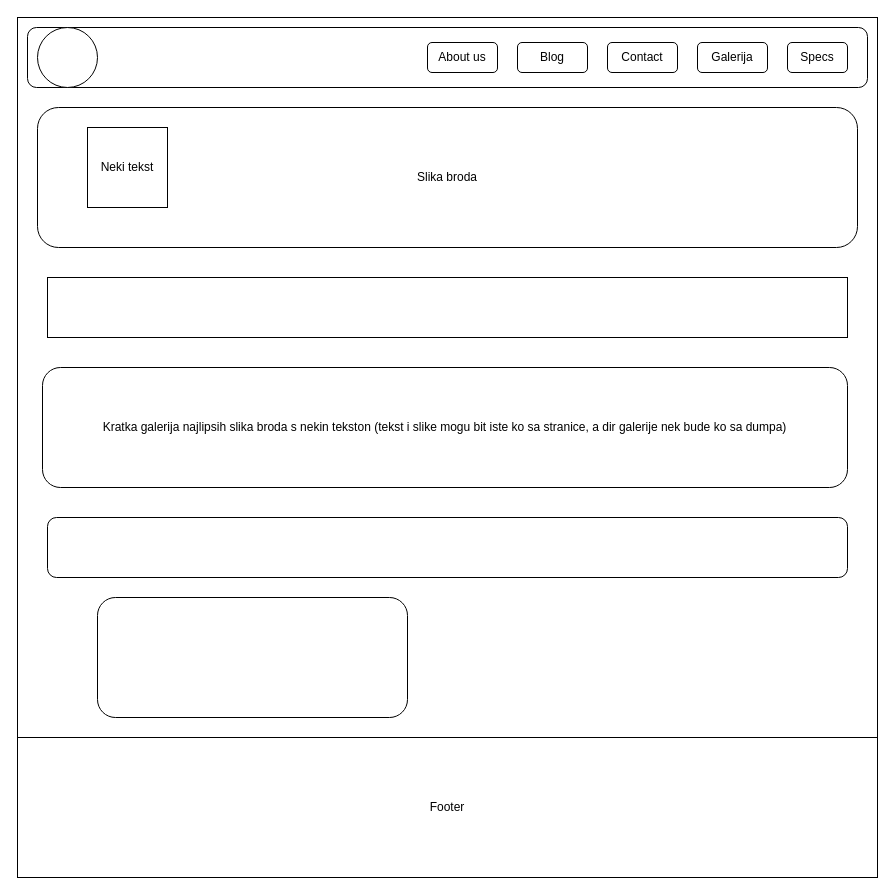
Image size: 895x895. Some labels were removed from this diagram. The centre of each missing label's shape, as x and y in pixels:
"Kontakt forma ista ko i na kontakt us" goes at (x=252, y=657).
"Logo" goes at (x=67, y=57).
"Neki stilizirani tekst" goes at (x=447, y=307).
"Slike koje reklamiraju Cro zajedno s nekin tekston koji govori o Cro" goes at (x=447, y=547).
